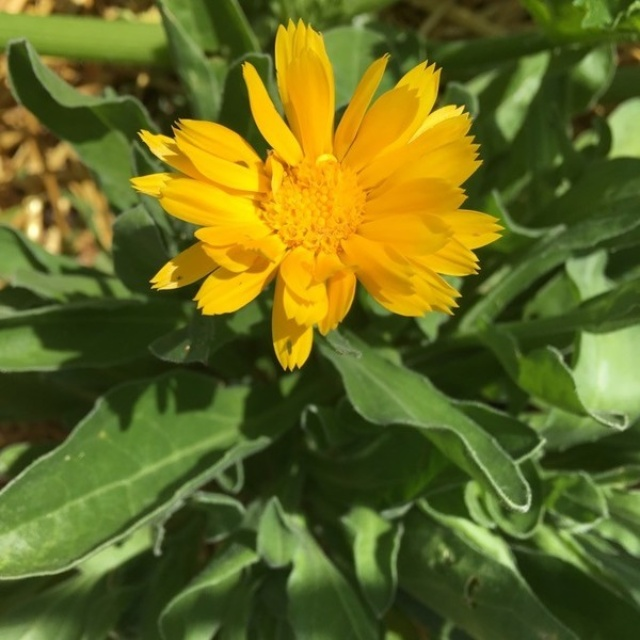obstacle: (131, 31, 562, 588)
